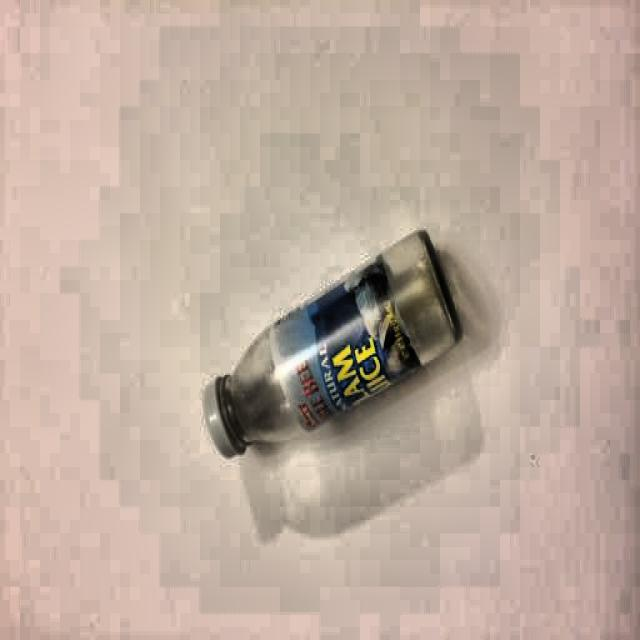glass: (204, 226, 458, 455)
